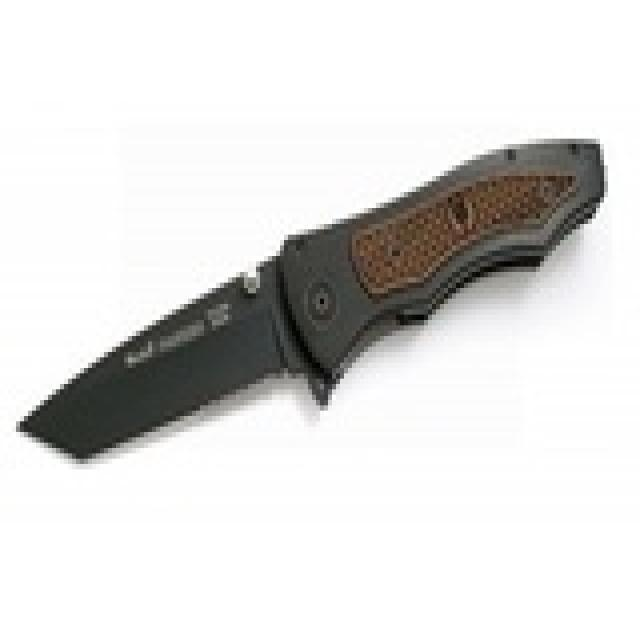Knife: (13, 130, 602, 476)
